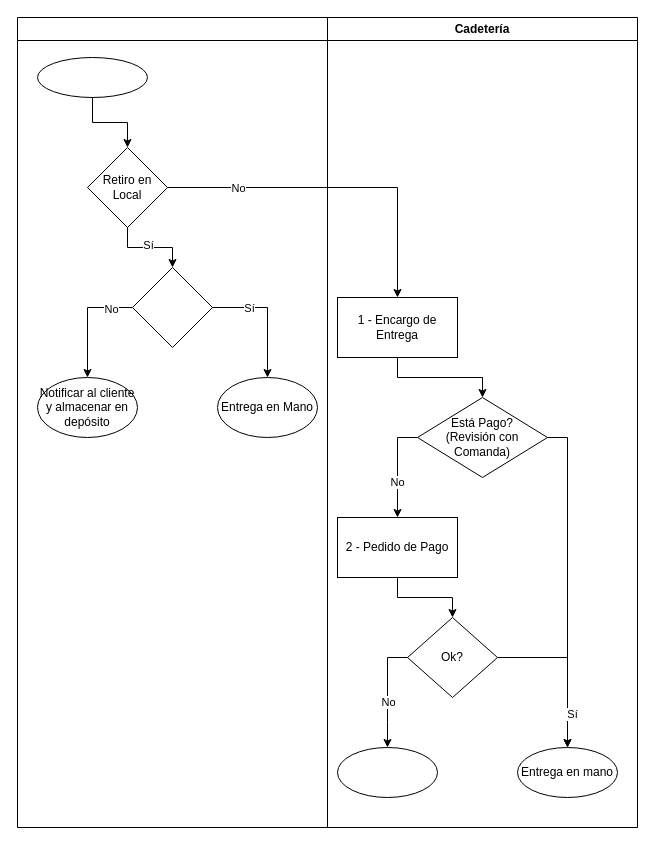
Image size: 655x845. Some labels were removed from this diagram. The box of each missing label's shape, as (x1, y1, x2, y2) in pixels:
Comienzo Entrega: (36, 56, 148, 98)
Empleado Atención al Público: (16, 16, 328, 828)
Retirarse del Local: (336, 746, 438, 798)
Retiro en el Acto: (132, 266, 212, 348)
